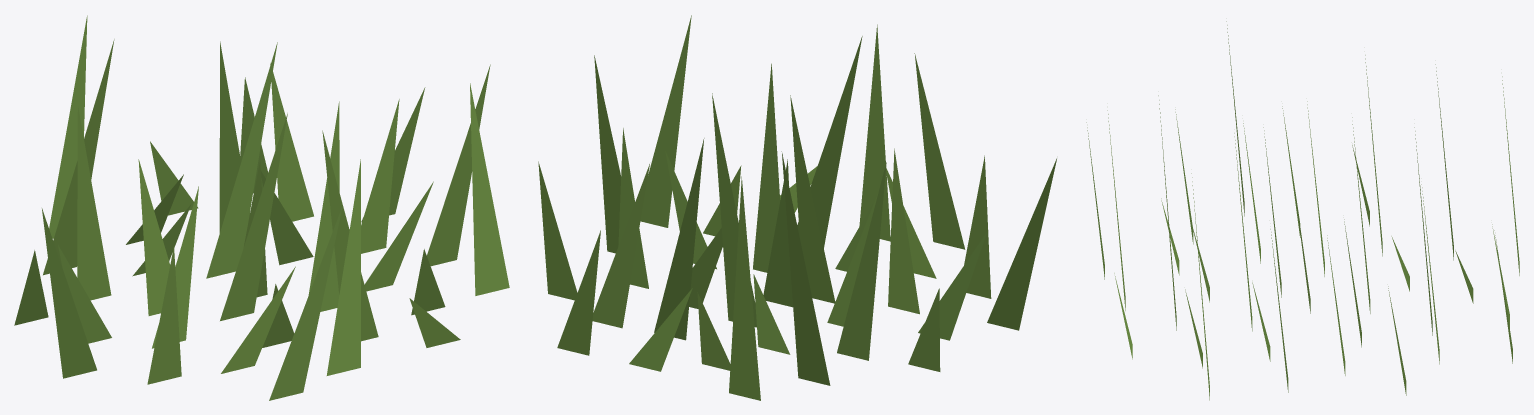
File: Grass_Meadow.glb
3 renders of one model, left to right at view 1: azimuth 30°, elevation 25°; view 2: azimuth 150°, elevation 25°; view 3: azimuth 270°, elevation 25°, orthographic. The views are drawn at different scales.
Visible parts, largest first — view 1: Grass_Meadow; view 2: Grass_Meadow; view 3: Grass_Meadow.
Part boxes in pixels (x1,y1,x2,y2): Grass_Meadow: [14, 15, 509, 400]; Grass_Meadow: [538, 15, 1056, 400]; Grass_Meadow: [1086, 21, 1519, 400].
Bounding box in the file's own units: 0.8558 × 0.4 × 0.7223.
